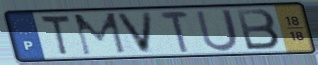B: (233, 8, 283, 52)
M: (71, 11, 129, 57)
T: (38, 14, 73, 58), (157, 10, 192, 54)
U: (193, 7, 241, 53)
V: (113, 11, 155, 55)
